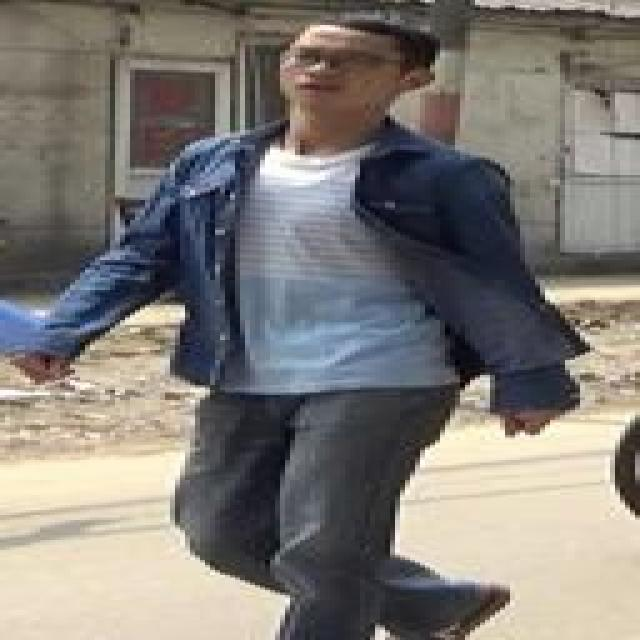adult: (32, 26, 589, 640)
